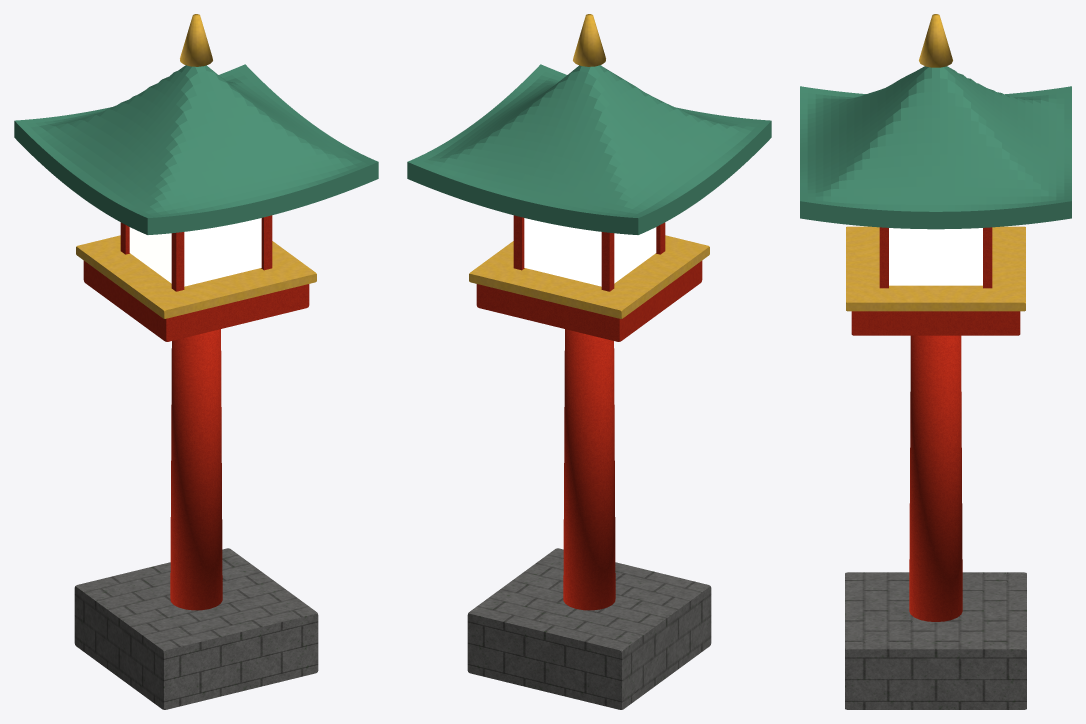
The model's file is Asset_03_Vermilion_Toro_Lantern.glb.
The picture shows the model from 3 angles, left to right: view 1: azimuth 30°, elevation 25°; view 2: azimuth 150°, elevation 25°; view 3: azimuth 270°, elevation 25°; orthographic projection.
Parts seen in each view (by area): view 1: Z01_Lantern_North_CopperRoof, Z01_Lantern_North_StonePlinth, Z01_Lantern_North_Post, Z01_Lantern_North_Platform_Gold, Z01_Lantern_North_LightChamber, Z01_Lantern_North_Platform, Z01_Lantern_North_Finial_Giboshi, Z01_Lantern_North_Frame_-0.27_-0.27, Z01_Lantern_North_Frame_0.27_-0.27; view 2: Z01_Lantern_North_CopperRoof, Z01_Lantern_North_StonePlinth, Z01_Lantern_North_Post, Z01_Lantern_North_Platform_Gold, Z01_Lantern_North_LightChamber, Z01_Lantern_North_Platform, Z01_Lantern_North_Finial_Giboshi, Z01_Lantern_North_Frame_-0.27_0.27, Z01_Lantern_North_Frame_0.27_0.27; view 3: Z01_Lantern_North_CopperRoof, Z01_Lantern_North_StonePlinth, Z01_Lantern_North_Post, Z01_Lantern_North_Platform_Gold, Z01_Lantern_North_LightChamber, Z01_Lantern_North_Platform, Z01_Lantern_North_Finial_Giboshi, Z01_Lantern_North_Frame_0.27_0.27, Z01_Lantern_North_Frame_0.27_-0.27.
Boxes of the visible parts, <box> form: Z01_Lantern_North_CopperRoof: <box>14,64,378,234</box>; Z01_Lantern_North_StonePlinth: <box>74,548,318,709</box>; Z01_Lantern_North_Post: <box>170,329,222,610</box>; Z01_Lantern_North_Platform_Gold: <box>76,235,316,318</box>; Z01_Lantern_North_LightChamber: <box>129,218,261,286</box>; Z01_Lantern_North_Platform: <box>83,260,309,341</box>; Z01_Lantern_North_Finial_Giboshi: <box>180,14,212,66</box>; Z01_Lantern_North_Frame_-0.27_-0.27: <box>171,232,184,291</box>; Z01_Lantern_North_Frame_0.27_-0.27: <box>261,215,272,270</box>; Z01_Lantern_North_CopperRoof: <box>407,64,771,234</box>; Z01_Lantern_North_StonePlinth: <box>467,548,711,709</box>; Z01_Lantern_North_Post: <box>563,329,615,610</box>; Z01_Lantern_North_Platform_Gold: <box>469,235,709,318</box>; Z01_Lantern_North_LightChamber: <box>524,218,656,286</box>; Z01_Lantern_North_Platform: <box>476,260,702,341</box>; Z01_Lantern_North_Finial_Giboshi: <box>573,14,605,66</box>; Z01_Lantern_North_Frame_-0.27_0.27: <box>601,232,614,291</box>; Z01_Lantern_North_Frame_0.27_0.27: <box>513,215,524,270</box>; Z01_Lantern_North_CopperRoof: <box>800,66,1071,229</box>; Z01_Lantern_North_StonePlinth: <box>845,572,1026,709</box>; Z01_Lantern_North_Post: <box>909,335,962,621</box>; Z01_Lantern_North_Platform_Gold: <box>846,226,1025,311</box>; Z01_Lantern_North_LightChamber: <box>889,228,982,285</box>; Z01_Lantern_North_Platform: <box>851,311,1020,335</box>; Z01_Lantern_North_Finial_Giboshi: <box>919,14,952,67</box>; Z01_Lantern_North_Frame_0.27_0.27: <box>983,227,992,288</box>; Z01_Lantern_North_Frame_0.27_-0.27: <box>879,227,888,288</box>.
Size of the model in its own units: 1.42 by 3.78 by 1.42.
5 materials, 3 textured.
